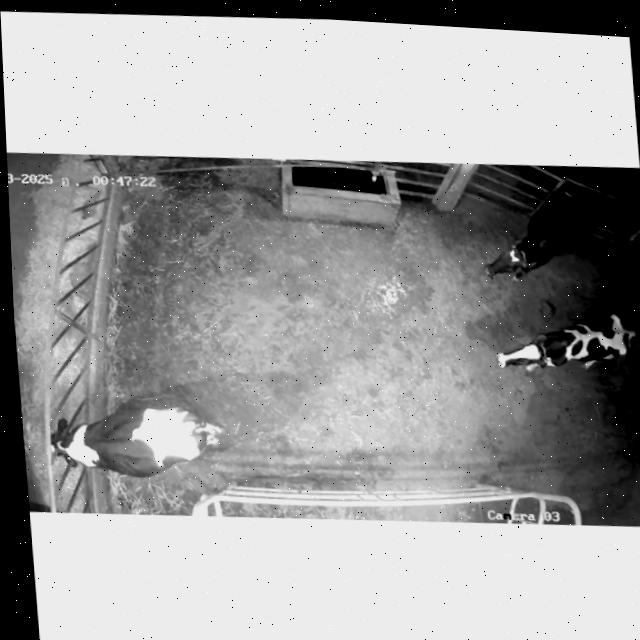stand: (467, 298, 640, 390), (471, 181, 599, 293)
